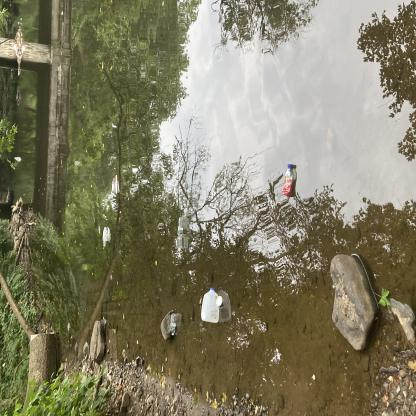trash: (196, 284, 224, 326), (276, 158, 300, 199), (169, 312, 178, 336), (216, 294, 224, 309)
